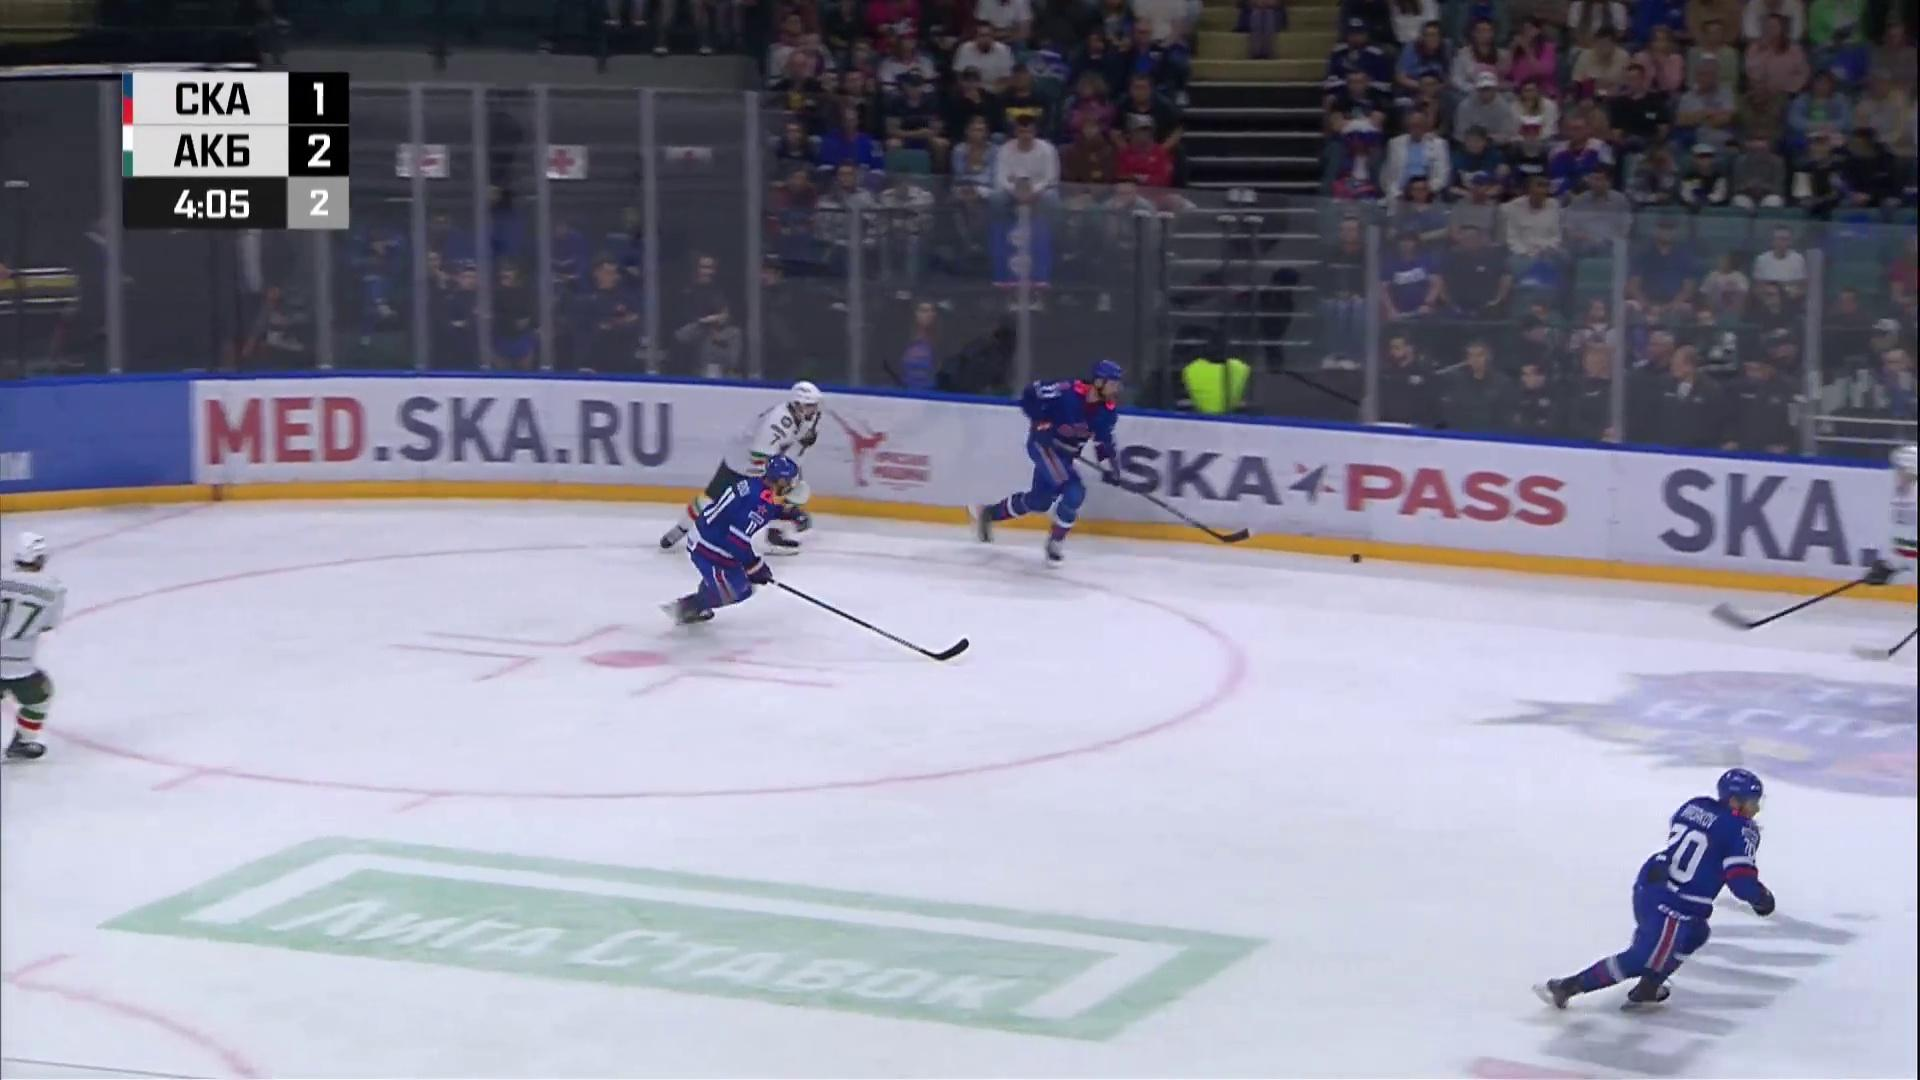ball: (1348, 551, 1365, 566)
